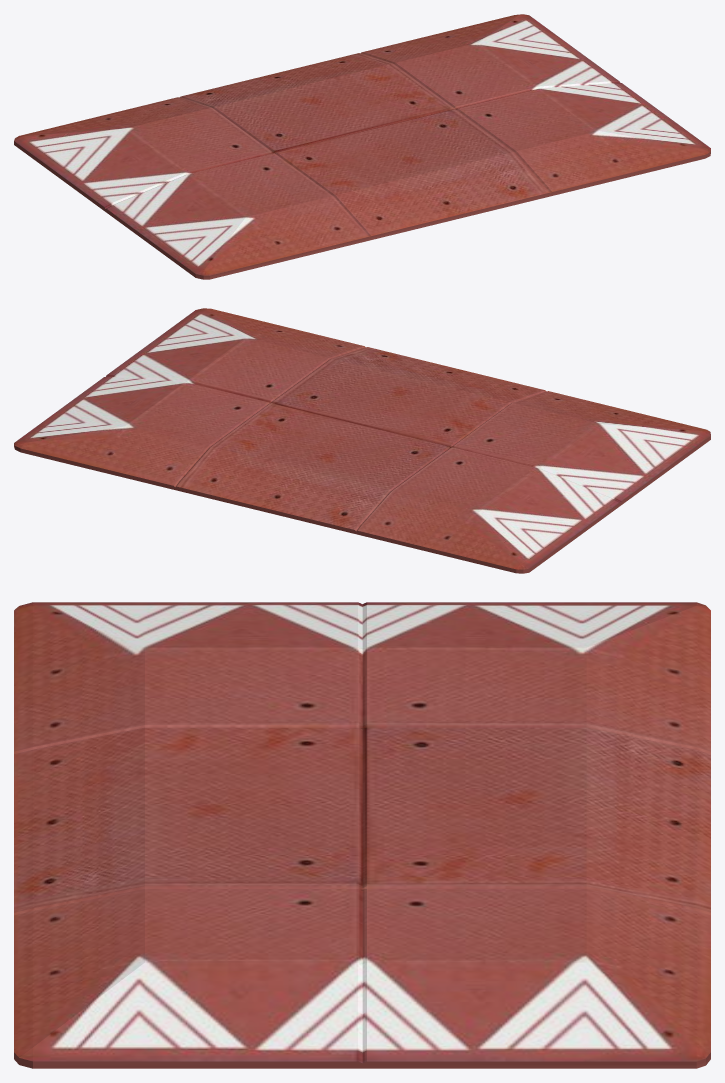
The model's file is ralentisseur.obj.
3 renders of one model, top to bottom at view 1: azimuth 30°, elevation 25°; view 2: azimuth 150°, elevation 25°; view 3: azimuth 270°, elevation 25°, orthographic. The views are drawn at different scales.
Visible parts, largest first — view 1: Cube_Cube.001; view 2: Cube_Cube.001; view 3: Cube_Cube.001.
Part boxes in pixels (x1,y1,x2,y2): Cube_Cube.001: [14, 14, 710, 279]; Cube_Cube.001: [14, 308, 710, 573]; Cube_Cube.001: [14, 602, 710, 1068].
Bounding box in the file's own units: 3.98 × 0.1368 × 2.55.
1 material, 1 textured.
